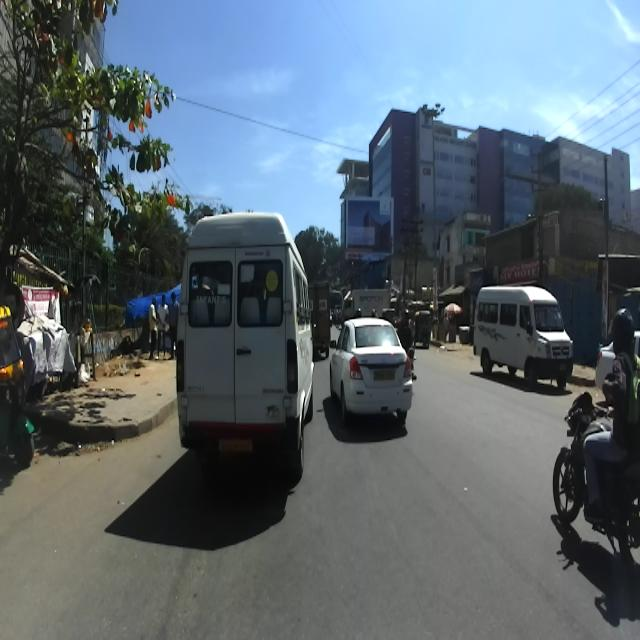bus ahead at: (168, 196, 318, 522)
car ahead at: (328, 314, 413, 448)
motorcycle ahead at: (554, 396, 640, 534)
